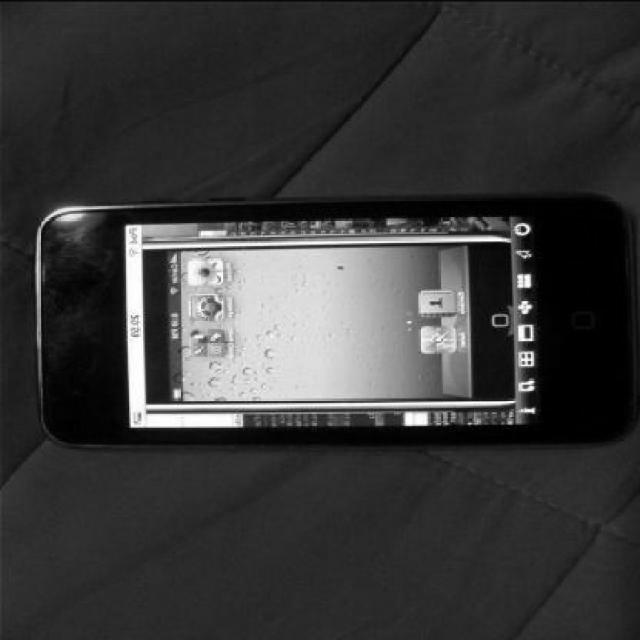fake: (22, 186, 624, 439)
